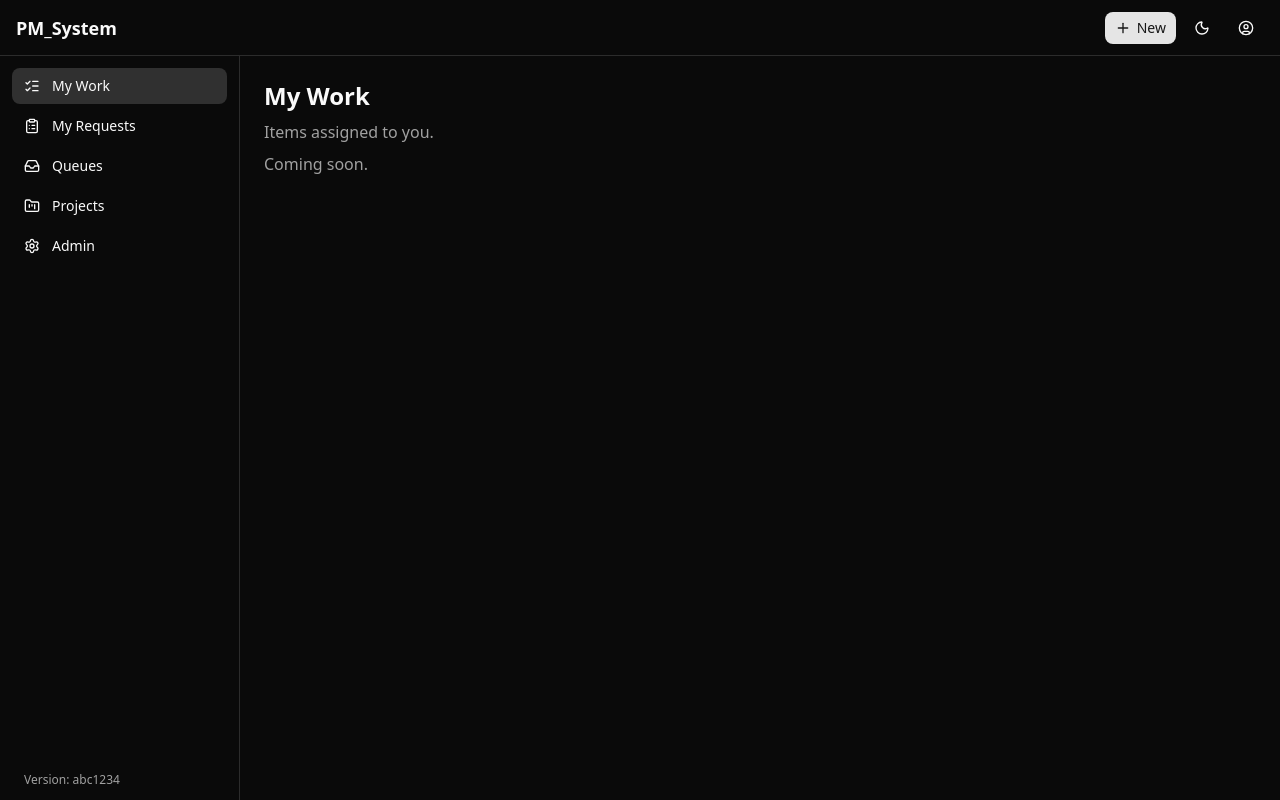
Test: theme switcher › starts with the remembered choice
What coordinates should you click on to do the following:
click the button named "Theme"
I would click on:
 (1202, 28)
Its box is [1184,10,1220,46].
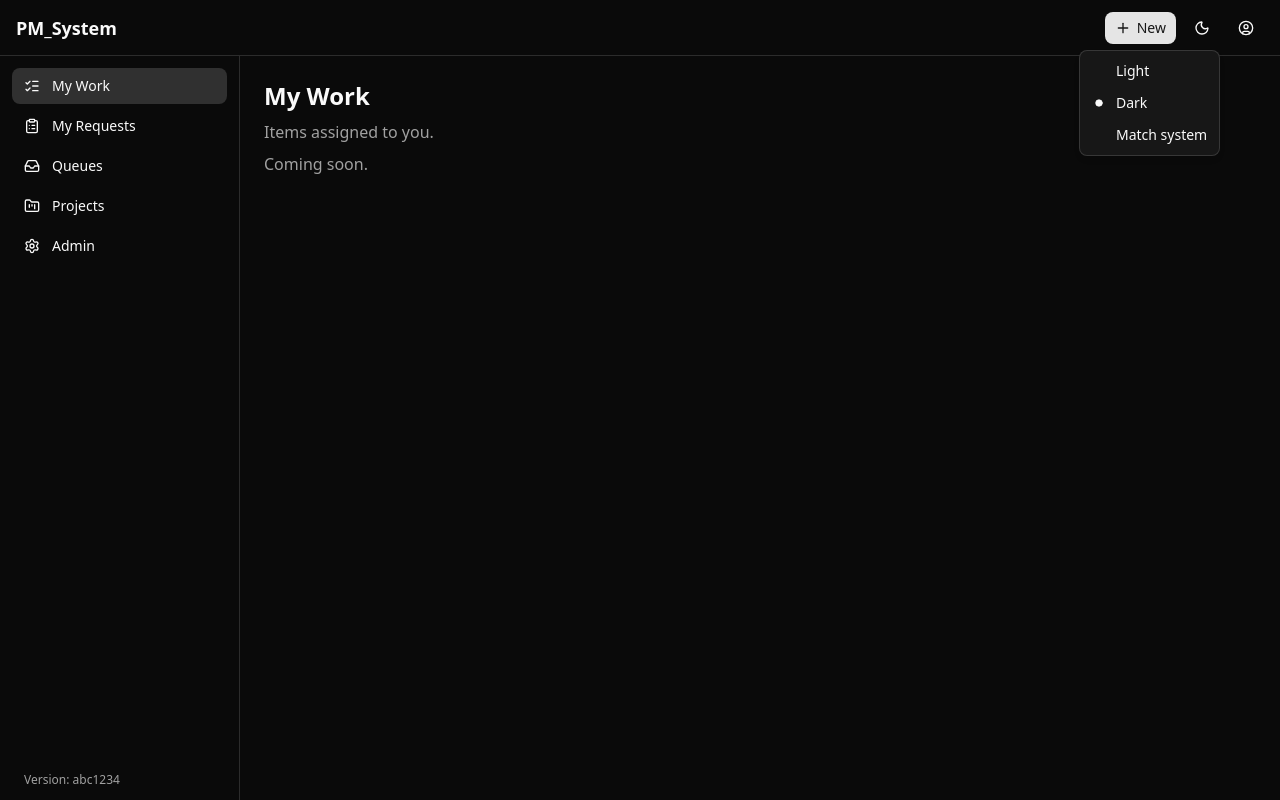
Check: the menu item "Dark" is checked, box [1095,93,1147,112]
